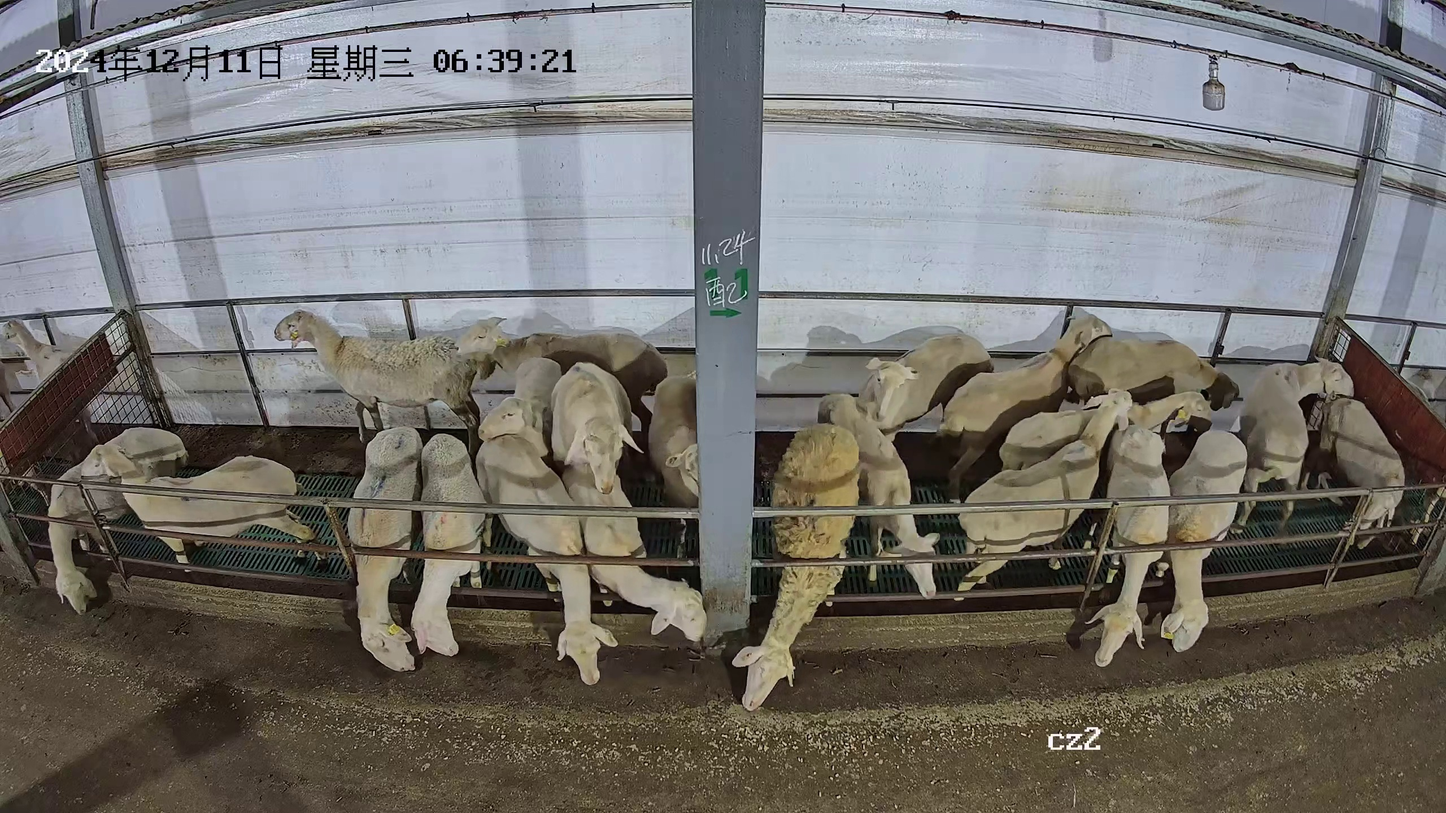Smounting: (548, 359, 709, 649)
mounted: (557, 456, 707, 645)
